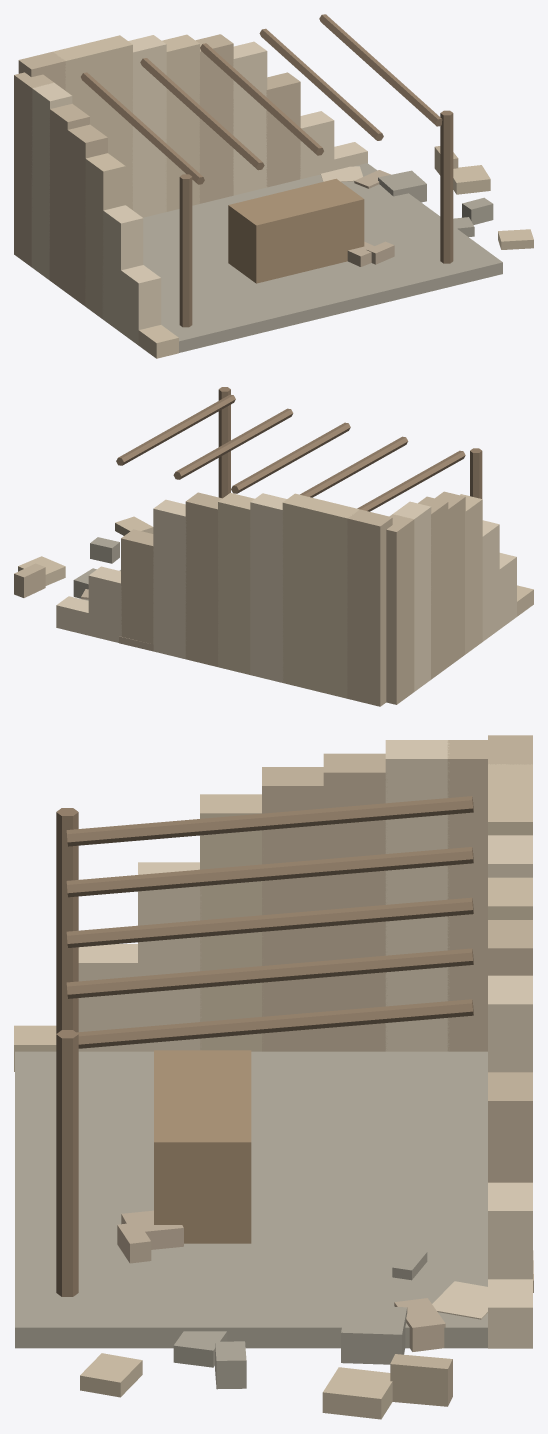
File: market_stall.glb
3 renders of one model, top to bottom at view 1: azimuth 30°, elevation 25°; view 2: azimuth 150°, elevation 25°; view 3: azimuth 270°, elevation 25°, orthographic. The views are drawn at different scales.
Visible parts, largest first — view 1: stone_0, wood2_26, adobe3_4, adobe2_6, adobe_5, adobe3_7, adobe_15, adobe_3, adobe3_12, adobe2_14, adobe2_13, adobe2_11 (+22 smaller); view 2: adobe2_1, adobe_3, adobe_2, adobe3_4, adobe_5, adobe2_6, adobe2_11, adobe3_7, adobe2_8, adobe3_12, adobe2_13, adobe2_14 (+17 smaller); view 3: stone_0, wood2_26, adobe3_12, adobe2_13, adobe2_14, adobe_15, adobe2_11, adobe3_16, wood_24, wood_21, wood_22, wood_23 (+26 smaller).
Part boxes in pixels (x1,y1,x2,y2): stone_0: (143, 163, 502, 352); wood2_26: (228, 178, 364, 283); adobe3_4: (128, 35, 166, 217); adobe2_6: (195, 34, 233, 203); adobe_5: (162, 34, 199, 211); adobe3_7: (233, 41, 267, 195); adobe_15: (85, 153, 125, 319); adobe_3: (87, 35, 132, 209); adobe3_12: (31, 82, 72, 280); adobe2_14: (67, 124, 107, 306); adobe2_13: (49, 103, 89, 293); adobe2_11: (14, 72, 53, 266); adobe2_1: (347, 509, 392, 706); adobe_3: (282, 493, 327, 690); adobe_2: (315, 501, 359, 698); adobe3_4: (250, 493, 286, 682); adobe_5: (218, 493, 254, 674); adobe2_6: (185, 492, 222, 666); adobe2_11: (386, 514, 414, 704); adobe3_7: (153, 499, 186, 659); adobe2_8: (121, 529, 153, 644); adobe3_12: (393, 501, 431, 691); adobe2_13: (418, 496, 448, 679); adobe2_14: (435, 491, 465, 666); stone_0: (15, 1051, 487, 1348); wood2_26: (154, 1050, 251, 1243); adobe3_12: (385, 740, 449, 1051); adobe2_13: (323, 753, 387, 1051); adobe2_14: (262, 767, 325, 1051); adobe_15: (200, 794, 263, 1051); adobe2_11: (447, 740, 487, 1051); adobe3_16: (138, 862, 201, 1051); wood_24: (66, 948, 473, 998); wood_21: (66, 796, 473, 846); wood_22: (66, 847, 473, 897); wood_23: (66, 897, 473, 947).
Size of the model in its own units: 5.77 by 2.4 by 3.46.
